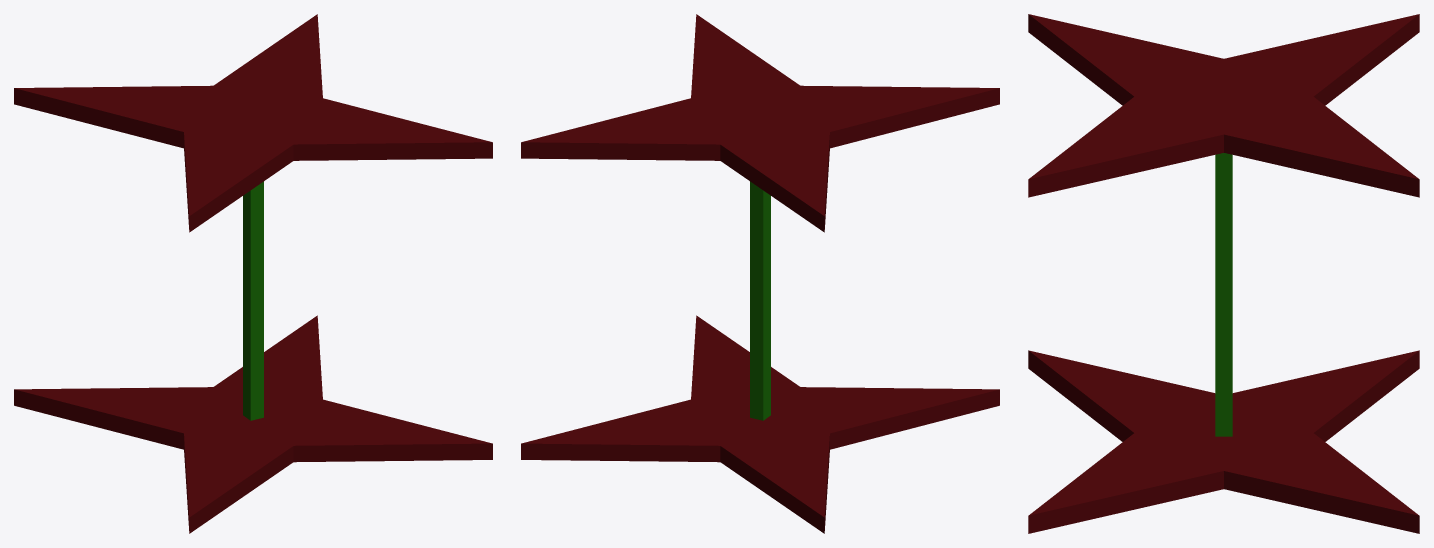
Rendered from 11_Ninja.fbx.
3 views of the same model, side by side, from view 1: azimuth 30°, elevation 25°; view 2: azimuth 150°, elevation 25°; view 3: azimuth 270°, elevation 25° (orthographic). The views are drawn at different scales.
Parts seen in each view (by area): view 1: Ninja; view 2: Ninja; view 3: Ninja.
Part boxes in pixels (x1,y1,x2,y2): Ninja: [14, 14, 492, 533]; Ninja: [521, 14, 999, 533]; Ninja: [1028, 14, 1419, 533].
Size of the model in its own units: 100 by 100 by 100.
